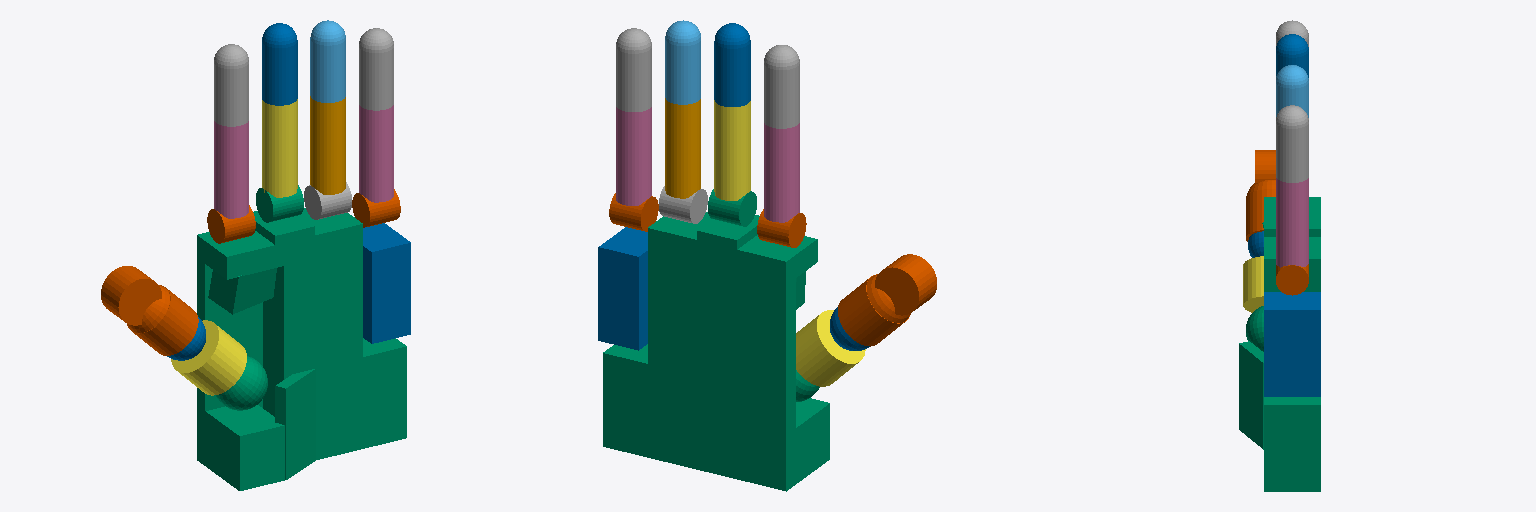
--- What the picture shows (computed from the rendered views, not written in the file) ---
Views: 3 orthographic renders of the robot side by side, from view 1: azimuth 30°, elevation 25°; view 2: azimuth 150°, elevation 25°; view 3: azimuth 270°, elevation 25°.
Model bimanual_shadowhand_motor with 32 links and 31 joints (22 revolute, 9 fixed), rooted at world, posed all joints at 0.
Links seen in each view (by area): view 1: palm, lfmetacarpal, thmiddle, rfproximal, mfproximal, lfproximal, ffproximal, thproximal, mfmiddle, rfmiddle, ffmiddle, lfmiddle (+6 smaller); view 2: palm, lfmetacarpal, thmiddle, mfproximal, lfproximal, rfproximal, ffproximal, thproximal, mfmiddle, rfmiddle, lfmiddle, ffmiddle (+5 smaller); view 3: palm, lfmetacarpal, lfproximal, lfmiddle, thmiddle, rfmiddle, thproximal, mfmiddle, lfknuckle, thbase.
Boxes of the visible links, x1=… form: palm: x1=197, y1=208, x2=406, y2=490; lfmetacarpal: x1=363, y1=223, x2=410, y2=343; thmiddle: x1=101, y1=266, x2=198, y2=355; rfproximal: x1=310, y1=96, x2=345, y2=194; mfproximal: x1=262, y1=99, x2=297, y2=197; lfproximal: x1=359, y1=105, x2=393, y2=202; ffproximal: x1=214, y1=121, x2=248, y2=218; thproximal: x1=171, y1=320, x2=246, y2=395; mfmiddle: x1=262, y1=23, x2=297, y2=105; rfmiddle: x1=310, y1=20, x2=345, y2=102; ffmiddle: x1=214, y1=44, x2=248, y2=126; lfmiddle: x1=359, y1=28, x2=393, y2=110; palm: x1=603, y1=212, x2=829, y2=491; lfmetacarpal: x1=598, y1=227, x2=647, y2=350; thmiddle: x1=838, y1=254, x2=936, y2=346; mfproximal: x1=714, y1=100, x2=750, y2=200; lfproximal: x1=616, y1=107, x2=651, y2=205; rfproximal: x1=665, y1=98, x2=700, y2=198; ffproximal: x1=764, y1=123, x2=799, y2=222; thproximal: x1=796, y1=310, x2=865, y2=386; mfmiddle: x1=714, y1=23, x2=750, y2=106; rfmiddle: x1=665, y1=20, x2=700, y2=104; lfmiddle: x1=616, y1=28, x2=651, y2=111; ffmiddle: x1=764, y1=45, x2=799, y2=128; palm: x1=1239, y1=197, x2=1320, y2=491; lfmetacarpal: x1=1264, y1=292, x2=1320, y2=396; lfproximal: x1=1276, y1=178, x2=1308, y2=267; lfmiddle: x1=1276, y1=105, x2=1308, y2=182; thmiddle: x1=1246, y1=150, x2=1275, y2=241; rfmiddle: x1=1276, y1=65, x2=1308, y2=117; thproximal: x1=1243, y1=256, x2=1263, y2=312; mfmiddle: x1=1276, y1=34, x2=1308, y2=77; lfknuckle: x1=1276, y1=264, x2=1308, y2=295; thbase: x1=1246, y1=306, x2=1263, y2=351.
Size in the robot's own frame: 0.1354 by 0.0343 by 0.187 metres.
Meshes: 3 distinct files referenced, 0 mesh visuals loaded (none loaded); not drawn: 6 (reference not matched to a file when rendering).

URDF robot description (bimanual_shadowhand_motor):
<?xml version="1.0" encoding="utf-8"?>
<!--
 Software License Agreement (BSD License)
 Copyright © 2022 belongs to Shadow Robot Company Ltd.
 All rights reserved.
 Redistribution and use in source and binary forms, with or without modification,
 are permitted provided that the following conditions are met:
   1. Redistributions of source code must retain the above copyright notice,
      this list of conditions and the following disclaimer.
   2. Redistributions in binary form must reproduce the above copyright notice,
      this list of conditions and the following disclaimer in the documentation
      and/or other materials provided with the distribution.
   3. Neither the name of Shadow Robot Company Ltd nor the names of its contributors
      may be used to endorse or promote products derived from this software without
      specific prior written permission.
 This software is provided by Shadow Robot Company Ltd "as is" and any express
 or implied warranties, including, but not limited to, the implied warranties of
 merchantability and fitness for a particular purpose are disclaimed. In no event
 shall the copyright holder be liable for any direct, indirect, incidental, special,
 exemplary, or consequential damages (including, but not limited to, procurement of
 substitute goods or services; loss of use, data, or profits; or business interruption)
 however caused and on any theory of liability, whether in contract, strict liability,
 or tort (including negligence or otherwise) arising in any way out of the use of this
 software, even if advised of the possibility of such damage.
-->
<robot name="bimanual_shadowhand_motor">
  <material name="Grey">
    <color rgba="0.2 0.2 0.2 1.0"/>
  </material>
  <material name="LightGrey">
    <color rgba="0.6 0.6 0.6 1.0"/>
  </material>
  <link name="world"/>
  <joint name="world_joint" type="fixed">
    <parent link="world"/>
    <child link="wrist"/>
    <origin rpy="0.0 0.0 0.0" xyz="0.0 0.0 0.0"/>
    <!-- <origin rpy="0.0 0.0 1.57079" xyz="0.0 0.0 0.0"/> -->
  </joint>
  <link name="wrist">
    <inertial>
      <origin rpy="0 0 0" xyz="0 0 0"/>
      <mass value="0.1"/>
      <inertia ixx="0.000035" ixy="0.0" ixz="0.0" iyy="0.000064" iyz="0.0" izz="0.0000438"/>
    </inertial>
    <visual>
      <origin rpy="0 0 0" xyz="0 0 0"/>
      <geometry name="wrist_visual">
        <mesh filename="meshes/visual/wrist/wrist_E3M5.dae" scale="0.001 0.001 0.001"/>
      </geometry>
      <material name="LightGrey"/>
    </visual>
    <collision>
      <origin rpy="1.5708 1.5708 0" xyz="0 0 0"/>
      <geometry name="wrist_collision_geom">
        <cylinder length="0.030" radius="0.0135"/>
      </geometry>
    </collision>
    <collision>
      <origin rpy="0 1.5708 0" xyz="-0.026 0 0.034"/>
      <geometry>
        <cylinder length="0.010" radius="0.011"/>
      </geometry>
    </collision>
    <collision>
      <origin rpy="0 1.5708 0" xyz="0.031 0 0.034"/>
      <geometry>
        <cylinder length="0.010" radius="0.011"/>
      </geometry>
    </collision>
    <collision>
      <origin rpy="0 0.7854 0" xyz="-0.021 0 0.011"/>
      <geometry>
        <box size="0.027 0.018 0.010"/>
      </geometry>
    </collision>
    <collision>
      <origin rpy="0 -0.7854 0" xyz="0.026 0 0.010"/>
      <geometry>
        <box size="0.027 0.018 0.010"/>
      </geometry>
    </collision>
  </link>
  

  <link name="palm">
    <inertial>
      <origin rpy="0 0 0" xyz="0 0 0.035"/>
      <mass value="0.3"/>
      <inertia ixx="0.0003581" ixy="0.0" ixz="0.0" iyy="0.0005287" iyz="0.0" izz="0.000191"/>
    </inertial>
    <!-- <visual>
      <origin rpy="1.5708 0 0" xyz="0 0 0"/>
      <geometry name="palm_visual">
        <mesh filename="meshes/visual/palm/palm_E3M5.dae" scale="0.001 0.001 0.001"/>
      </geometry>
      <material name="Grey"/>
    </visual> -->
    <visual>
      <origin rpy="0 0 0" xyz="-0.011 0.0085 0.038"/>
      <geometry name="palm_collision_geom">
        <box size="0.062 0.007 0.098"/>
      </geometry>
    </visual>
    <visual>
      <origin rpy="0 0 0" xyz="0.002 -0.0035 0.038"/>
      <geometry>
        <box size="0.036 0.017 0.098"/>
      </geometry>
    </visual>
    <!-- palm complement below first finger -->
    <visual>
      <origin rpy="0 0 0" xyz="-0.029 -0.0035 0.082"/>
      <geometry>
        <box size="0.026 0.017 0.010"/>
      </geometry>
    </visual>
    <visual>
      <origin rpy="0.2 0 0.25" xyz="-0.0265 -0.001 0.070"/>
      <geometry>
        <box size="0.026 0.014 0.018"/>
      </geometry>
    </visual>
    <!-- thumb pulp side -->
    <visual>
      <origin rpy="0 0 0" xyz="-0.0315 -0.0085 0.001"/>
      <geometry>
        <box size="0.021 0.027 0.024"/>
      </geometry>
    </visual>
    <!-- thumb pulp central -->
    <visual>
      <origin rpy="0 0 0.48" xyz="-0.0125 -0.015 0.009"/>
      <geometry>
        <box size="0.022 0.005 0.040"/>
      </geometry>
    </visual>
    <!-- above middle finger-->
    <visual>
      <origin rpy="0 0 0" xyz="-0.011 0 0.089"/>
      <geometry>
        <box size="0.018 0.024 0.004"/>
      </geometry>
    </visual>
    <!-- metacarpal side-->
    <visual>
      <origin rpy="0 0 0" xyz="0.03 0 0.009"/>
      <geometry>
        <box size="0.020 0.024 0.040"/>
      </geometry>
    </visual>
  </link>

  <joint name="ee_fixed_joint" type="fixed">
    <parent link="palm"/>
    <child link="manipulator"/>
    <origin rpy="0.0 0.0 0.0" xyz="0.0 0.0 0.05"/>
  </joint>
  <link name="manipulator"/>
  <joint name="WRJ1" type="fixed">
    <parent link="wrist"/>
    <child link="palm"/>
    <origin rpy="0 0 0" xyz="0 0 0.034"/>
    <!-- <axis xyz="1 0 0"/> -->
    <!-- <limit effort="30" lower="-0.698000" upper="0.489000" velocity="2.0"/> -->
    <!-- <dynamics damping="0.1"/> -->
  </joint>
  <link name="imu"/>
  <joint name="palm_to_imu" type="fixed">
    <parent link="palm"/>
    <child link="imu"/>
    <origin rpy="-1.5707963 3.141592 0.0" xyz="-0.01785 0.00765 0.049125"/>
  </joint>
  <link name="ffknuckle">
    <inertial>
      <origin rpy="0 0 0" xyz="0 0 0"/>
      <mass value="0.008"/>
      <inertia ixx="0.00000026" ixy="0.0" ixz="0.0" iyy="0.00000026" iyz="0.0" izz="0.00000032"/>
    </inertial>
    <!-- <visual>
      <origin rpy="0 0 0" xyz="0 0 0.0005"/>
      <geometry name="ffknuckle_visual">
        <mesh filename="meshes/visual/f_knuckle/f_knuckle_E3M5.dae" scale="0.001 0.001 0.001"/>
      </geometry>
      <material name="LightGrey"/>
    </visual> -->
    <visual>
      <origin rpy="0 1.5708 0" xyz="0 0 0"/>
      <geometry name="ffknuckle_collision_geom">
        <cylinder length="0.014" radius="0.007"/>
      </geometry>
    </visual>
  </link>
  <joint name="FFJ4" type="revolute">
    <parent link="palm"/>
    <child link="ffknuckle"/>
    <!--<origin xyz="0.033 0 0.095" rpy="0 0 0" />-->
    <origin rpy="0 0 0" xyz="-0.033 0 0.095"/>
    <axis xyz="0 -1 0"/>
    <limit effort="2" lower="-0.349000" upper="0.349000" velocity="2.0"/>
    <dynamics damping="0.1"/>
  </joint>
  <link name="ffproximal">
    <inertial>
      <mass value="0.030"/>
      <origin xyz="0 0 0.0225"/>
      <inertia ixx="0.0000098" ixy="0.0" ixz="0.0" iyy="0.00001" iyz="0.0" izz="0.0000018"/>
    </inertial>
    <!-- <visual>
      <origin rpy="0 0 0" xyz="0 0 0"/>
      <geometry name="ffproximal_visual">
        <mesh filename="meshes/visual/f_proximal/f_proximal_E3M5.dae" scale="0.001 0.001 0.001"/>
      </geometry>
      <material name="Grey"/>
    </visual> -->
    <visual>
      <origin rpy="0 0 0" xyz="0 0 0.025"/>
      <geometry name="ffproximal_collision_geom">
        <cylinder length="0.040" radius="0.007"/>
      </geometry>
    </visual>
  </link>
  <joint name="FFJ3" type="revolute">
    <parent link="ffknuckle"/>
    <child link="ffproximal"/>
    <origin rpy="0 0 0" xyz="0 0 0"/>
    <axis xyz="1 0 0"/>
    <limit effort="2" lower="0.0" upper="1.571" velocity="2.0"/>
    <dynamics damping="0.1"/>
  </joint>
  
  <link name="ffmiddle">
    <inertial>
      <origin rpy="0 0 0" xyz="0 0 0.0125"/>
      <mass value="0.017"/>
      <inertia ixx="0.0000026" ixy="0.0" ixz="0.0" iyy="0.0000027" iyz="0.0" izz="0.00000087"/>
    </inertial>
    <!-- <visual>
      <origin rpy="0 0 0" xyz="0 0 0"/>
      <geometry name="ffmiddle_visual">
        <mesh filename="meshes/visual/f_middle/f_middle_E3M5.dae" scale="0.001 0.001 0.001"/>
      </geometry>
      <material name="Grey"/>
    </visual> -->
    <visual>
      <origin rpy="0 0 0" xyz="0 0 0.0125"/>
      <geometry name="ffmiddle_collision_geom">
        <cylinder length="0.025" radius="0.007"/>
      </geometry>
    </visual>
    <visual>
      <origin rpy="0 0 0" xyz="0 0 0.0"/>
      <geometry>
        <sphere radius="0.007"/>
      </geometry>
    </visual>
    <visual>
      <origin rpy="0 0 0" xyz="0 0 0.025"/>
      <geometry>
        <sphere radius="0.007"/>
      </geometry>
    </visual>
  </link>
  <joint name="FFJ2" type="revolute">
    <parent link="ffproximal"/>
    <child link="ffmiddle"/>
    <origin rpy="0 0 0" xyz="0 0 0.045"/>
    <axis xyz="1 0 0"/>
    <limit effort="2" lower="0" upper="1.571" velocity="2.0"/>
    <dynamics damping="0.1"/>
  </joint>
  <link name="ffdistal">
    <inertial>
      <mass value="0.012"/>
      <origin xyz="0 0 0.012"/>
      <inertia ixx="0.00000094" ixy="0.0" ixz="0.0" iyy="0.0000011" iyz="0.0" izz="0.00000053"/>
    </inertial>
    <!-- <visual>
      <origin rpy="1.5708 0 0" xyz="0 0 0"/>
      <geometry name="ffdistal_visual">
        <mesh filename="meshes/visual/f_distal/pst/f_distal_pst.dae" scale="0.001 0.001 0.001"/>
      </geometry>
    </visual> -->
    <visual>
      <origin rpy="0 0 0" xyz="0 0 0"/>
      <geometry name="ffdistal_collision_geom">
        <mesh filename="meshes/visual/f_distal/pst/f_distal_pst.dae" scale="0.001 0.001 0.001"/>
      </geometry>
    </visual>
  </link>
  <joint name="FFJ1" type="revolute">
    <parent link="ffmiddle"/>
    <child link="ffdistal"/>
    <origin rpy="0 0 0" xyz="0 0 0.025"/>
    <axis xyz="1 0 0"/>
    <!-- standard distal joint -->
    <limit effort="2" lower="0" upper="1.571" velocity="2.0"/>
    <dynamics damping="0.1"/>
  </joint>
  <link name="fftip">
    <inertial>
      <mass value="0.001"/>
      <inertia ixx="0.0" ixy="0.0" ixz="0.0" iyy="0.0" iyz="0.0" izz="0.0"/>
    </inertial>
  </link>
  <joint name="FFtip" type="fixed">
    <parent link="ffdistal"/>
    <child link="fftip"/>
    <origin rpy="0 0 0" xyz="0 0 0.026"/>
  </joint>
  <link name="mfknuckle">
    <inertial>
      <origin rpy="0 0 0" xyz="0 0 0"/>
      <mass value="0.008"/>
      <inertia ixx="0.00000026" ixy="0.0" ixz="0.0" iyy="0.00000026" iyz="0.0" izz="0.00000032"/>
    </inertial>
    <!-- <visual>
      <origin rpy="1.5708 0 0" xyz="0 0 0.0005"/>
      <geometry name="mfknuckle_visual">
        <mesh filename="meshes/visual/f_knuckle/f_knuckle_E3M5.dae" scale="0.001 0.001 0.001"/>
      </geometry>
      <material name="LightGrey"/>
    </visual> -->
    <visual>
      <origin rpy="0 1.5708 0" xyz="0 0 0"/>
      <geometry name="mfknuckle_collision_geom">
        <cylinder length="0.014" radius="0.007"/>
      </geometry>
    </visual>
  </link>
  <joint name="MFJ4" type="revolute">
    <parent link="palm"/>
    <child link="mfknuckle"/>
    <!--<origin xyz="0.033 0 0.095" rpy="0 0 0" />-->
    <origin rpy="0 0 0" xyz="-0.011 0 0.099"/>
    <axis xyz="0 -1 0"/>
    <limit effort="2" lower="-0.349" upper="0.349" velocity="2.0"/>
    <dynamics damping="0.1"/>
  </joint>
  <link name="mfproximal">
    <inertial>
      <mass value="0.030"/>
      <origin xyz="0 0 0.0225"/>
      <inertia ixx="0.0000098" ixy="0.0" ixz="0.0" iyy="0.00001" iyz="0.0" izz="0.0000018"/>
    </inertial>
    <!-- <visual>
      <origin rpy="0 0 0" xyz="0 0 0"/>
      <geometry name="mfproximal_visual">
        <mesh filename="meshes/visual/f_proximal/f_proximal_E3M5.dae" scale="0.001 0.001 0.001"/>
      </geometry>
      <material name="Grey"/>
    </visual> -->
    <visual>
      <origin rpy="0 0 0" xyz="0 0 0.025"/>
      <geometry name="mfproximal_collision_geom">
        <cylinder length="0.040" radius="0.007"/>
      </geometry>
    </visual>
  </link>
  <joint name="MFJ3" type="revolute">
    <parent link="mfknuckle"/>
    <child link="mfproximal"/>
    <origin rpy="0 0 0" xyz="0 0 0"/>
    <axis xyz="1 0 0"/>
    <limit effort="2" lower="0.0" upper="1.571" velocity="2.0"/>
    <dynamics damping="0.1"/>
  </joint>
  <link name="mfmiddle">
    <inertial>
      <origin rpy="0 0 0" xyz="0 0 0.0125"/>
      <mass value="0.017"/>
      <inertia ixx="0.0000026" ixy="0.0" ixz="0.0" iyy="0.0000027" iyz="0.0" izz="0.00000087"/>
    </inertial>
    <!-- <visual>
      <origin rpy="0 0 0" xyz="0 0 0"/>
      <geometry name="mfmiddle_visual">
        <mesh filename="meshes/visual/f_middle/f_middle_E3M5.dae" scale="0.001 0.001 0.001"/>
      </geometry>
      <material name="Grey"/>
    </visual> -->
    <visual>
      <origin rpy="0 0 0" xyz="0 0 0.0125"/>
      <geometry name="mfmiddle_collision_geom">
        <cylinder length="0.025" radius="0.007"/>
      </geometry>
    </visual>
    <visual>
      <origin rpy="0 0 0" xyz="0 0 0.0"/>
      <geometry>
        <sphere radius="0.007"/>
      </geometry>
    </visual>
    <visual>
      <origin rpy="0 0 0" xyz="0 0 0.025"/>
      <geometry>
        <sphere radius="0.007"/>
      </geometry>
    </visual>
  </link>
  <joint name="MFJ2" type="revolute">
    <parent link="mfproximal"/>
    <child link="mfmiddle"/>
    <origin rpy="0 0 0" xyz="0 0 0.045"/>
    <axis xyz="1 0 0"/>
    <limit effort="2" lower="0" upper="1.571" velocity="2.0"/>
    <dynamics damping="0.1"/>
  </joint>
  <link name="mfdistal">
    <inertial>
      <mass value="0.012"/>
      <origin xyz="0 0 0.012"/>
      <inertia ixx="0.00000094" ixy="0.0" ixz="0.0" iyy="0.0000011" iyz="0.0" izz="0.00000053"/>
    </inertial>
    <!-- <visual>
      <origin rpy="1.5708 0 0" xyz="0 0 0"/>
      <geometry name="mfdistal_visual">
        <mesh filename="meshes/visual/f_distal/pst/f_distal_pst.dae" scale="0.001 0.001 0.001"/>
      </geometry>
    </visual> -->
    <visual>
      <origin rpy="0 0 0" xyz="0 0 0"/>
      <geometry name="mfdistal_collision_geom">
        <mesh filename="meshes/visual/f_distal/pst/f_distal_pst.dae" scale="0.001 0.001 0.001"/>
      </geometry>
    </visual>
  </link>
  <joint name="MFJ1" type="revolute">
    <parent link="mfmiddle"/>
    <child link="mfdistal"/>
    <origin rpy="0 0 0" xyz="0 0 0.025"/>
    <axis xyz="1 0 0"/>
    <!-- standard distal joint -->
    <limit effort="2" lower="0" upper="1.571" velocity="2.0"/>
    <dynamics damping="0.1"/>
  </joint>
  <gazebo reference="MFJ1">
    <provideFeedback>1</provideFeedback>
    <implicitSpringDamper>1</implicitSpringDamper>
  </gazebo>
  <link name="mftip">
    <inertial>
      <mass value="0.001"/>
      <inertia ixx="0.0" ixy="0.0" ixz="0.0" iyy="0.0" iyz="0.0" izz="0.0"/>
    </inertial>
  </link>
  <joint name="MFtip" type="fixed">
    <parent link="mfdistal"/>
    <child link="mftip"/>
    <origin rpy="0 0 0" xyz="0 0 0.026"/>
  </joint>
  <link name="rfknuckle">
    <inertial>
      <origin rpy="0 0 0" xyz="0 0 0"/>
      <mass value="0.008"/>
      <inertia ixx="0.00000026" ixy="0.0" ixz="0.0" iyy="0.00000026" iyz="0.0" izz="0.00000032"/>
    </inertial>
    <!-- <visual>
      <origin rpy="1.5708 0 0" xyz="0 0 0.0005"/>
      <geometry name="rfknuckle_visual">
        <mesh filename="meshes/visual/f_knuckle/f_knuckle_E3M5.dae" scale="0.001 0.001 0.001"/>
      </geometry>
      <material name="LightGrey"/>
    </visual> -->
    <visual>
      <origin rpy="0 1.5708 0" xyz="0 0 0"/>
      <geometry name="rfknuckle_collision_geom">
        <cylinder length="0.014" radius="0.007"/>
      </geometry>
    </visual>
  </link>
  <joint name="RFJ4" type="revolute">
    <parent link="palm"/>
    <child link="rfknuckle"/>
    <!--<origin xyz="0.033 0 0.095" rpy="0 0 0" />-->
    <origin rpy="0 0 0" xyz="0.011 0 0.095"/>
    <axis xyz="0 1 0"/>
    <limit effort="2" lower="-0.349065850399" upper="0.349065850399" velocity="2.0"/>
    <dynamics damping="0.1"/>
  </joint>
  <link name="rfproximal">
    <inertial>
      <mass value="0.030"/>
      <origin xyz="0 0 0.0225"/>
      <inertia ixx="0.0000098" ixy="0.0" ixz="0.0" iyy="0.00001" iyz="0.0" izz="0.0000018"/>
    </inertial>
    <!-- <visual>
      <origin rpy="0 0 0" xyz="0 0 0"/>
      <geometry name="rfproximal_visual">
        <mesh filename="meshes/visual/f_proximal/f_proximal_E3M5.dae" scale="0.001 0.001 0.001"/>
      </geometry>
      <material name="Grey"/>
    </visual> -->
    <visual>
      <origin rpy="0 0 0" xyz="0 0 0.025"/>
      <geometry name="rfproximal_collision_geom">
        <cylinder length="0.040" radius="0.007"/>
      </geometry>
    </visual>
  </link>
  <joint name="RFJ3" type="revolute">
    <parent link="rfknuckle"/>
    <child link="rfproximal"/>
    <origin rpy="0 0 0" xyz="0 0 0"/>
    <axis xyz="1 0 0"/>
    <limit effort="2" lower="0.0" upper="1.571" velocity="2.0"/>
    <dynamics damping="0.1"/>
  </joint>
  <link name="rfmiddle">
    <inertial>
      <origin rpy="0 0 0" xyz="0 0 0.0125"/>
      <mass value="0.017"/>
      <inertia ixx="0.0000026" ixy="0.0" ixz="0.0" iyy="0.0000027" iyz="0.0" izz="0.00000087"/>
    </inertial>
    <!-- <visual>
      <origin rpy="0 0 0" xyz="0 0 0"/>
      <geometry name="rfmiddle_visual">
        <mesh filename="meshes/visual/f_middle/f_middle_E3M5.dae" scale="0.001 0.001 0.001"/>
      </geometry>
      <material name="Grey"/>
    </visual> -->
    <visual>
      <origin rpy="0 0 0" xyz="0 0 0.0125"/>
      <geometry name="rfmiddle_collision_geom">
        <cylinder length="0.025" radius="0.007"/>
      </geometry>
    </visual>
    <visual>
      <origin rpy="0 0 0" xyz="0 0 0.0"/>
      <geometry>
        <sphere radius="0.007"/>
      </geometry>
    </visual>
    <visual>
      <origin rpy="0 0 0" xyz="0 0 0.025"/>
      <geometry>
        <sphere radius="0.007"/>
      </geometry>
    </visual>
  </link>
  <joint name="RFJ2" type="revolute">
    <parent link="rfproximal"/>
    <child link="rfmiddle"/>
    <origin rpy="0 0 0" xyz="0 0 0.045"/>
    <axis xyz="1 0 0"/>
    <limit effort="2" lower="0" upper="1.571" velocity="2.0"/>
    <dynamics damping="0.1"/>
  </joint>
  <link name="rfdistal">
    <inertial>
      <mass value="0.012"/>
      <origin xyz="0 0 0.012"/>
      <inertia ixx="0.00000094" ixy="0.0" ixz="0.0" iyy="0.0000011" iyz="0.0" izz="0.00000053"/>
    </inertial>
    <!-- <visual>
      <origin rpy="1.5708 0 0" xyz="0 0 0"/>
      <geometry name="rfdistal_visual">
        <mesh filename="meshes/visual/f_distal/pst/f_distal_pst.dae" scale="0.001 0.001 0.001"/>
      </geometry>
    </visual> -->
    <visual>
      <origin rpy="0 0 0" xyz="0 0 0"/>
      <geometry name="rfdistal_collision_geom">
        <mesh filename="meshes/visual/f_distal/pst/f_distal_pst.dae" scale="0.001 0.001 0.001"/>
      </geometry>
    </visual>
  </link>
  <joint name="RFJ1" type="revolute">
    <parent link="rfmiddle"/>
    <child link="rfdistal"/>
    <origin rpy="0 0 0" xyz="0 0 0.025"/>
    <axis xyz="1 0 0"/>
    <!-- standard distal joint -->
    <limit effort="2" lower="0" upper="1.571" velocity="2.0"/>
    <dynamics damping="0.1"/>
  </joint>
  <link name="rftip">
    <inertial>
      <mass value="0.001"/>
      <inertia ixx="0.0" ixy="0.0" ixz="0.0" iyy="0.0" iyz="0.0" izz="0.0"/>
    </inertial>
  </link>
  <joint name="RFtip" type="fixed">
    <parent link="rfdistal"/>
    <child link="rftip"/>
    <origin rpy="0 0 0" xyz="0 0 0.026"/>
  </joint>
  <link name="lfmetacarpal">
    <inertial>
      <origin rpy="0 0.9599 0" xyz="0.0317486764706 0 0.0223529411765"/>
      <mass value="0.030"/>
      <inertia ixx="0.0000145" ixy="0.0" ixz="0.0" iyy="0.00001638" iyz="0.0" izz="0.000004272"/>
    </inertial>
    <!-- <visual>
      <origin rpy="0 0.9599 0" xyz="0 0 0"/>
      <geometry name="lfmetacarpal_visual">
        <mesh filename="meshes/visual/lf_metacarpal/lf_metacarpal_E3M5.dae" scale="0.001 0.001 0.001"/>
      </geometry>
      <material name="Grey"/>
    </visual> -->
    <visual>
      <origin rpy="0 0.9599 0" xyz="0.026986375 0 0.019"/>
      <geometry name="lfmetacarpal_collision_geom">
        <box size="0.018 0.024 0.040"/>
      </geometry>
    </visual>
  </link>
  <joint name="LFJ5" type="revolute">
    <parent link="palm"/>
    <child link="lfmetacarpal"/>
    <origin rpy="0 -0.9599 0" xyz="0.033 0 0.02071"/>
    <axis xyz="0 1 0"/>
    <limit effort="2" lower="0" upper="0.785" velocity="2.0"/>
    <dynamics damping="0.1"/>
  </joint>
  <link name="lfknuckle">
    <inertial>
      <origin rpy="0 0 0" xyz="0 0 0"/>
      <mass value="0.008"/>
      <inertia ixx="0.00000026" ixy="0.0" ixz="0.0" iyy="0.00000026" iyz="0.0" izz="0.00000032"/>
    </inertial>
    <!-- <visual>
      <origin rpy="0 0 0" xyz="0 0 0.0005"/>
      <geometry name="lfknuckle_visual">
        <mesh filename="meshes/visual/f_knuckle/f_knuckle_E3M5.dae" scale="0.001 0.001 0.001"/>
      </geometry>
      <material name="LightGrey"/>
    </visual> -->
    <visual>
      <origin rpy="0 1.5708 0" xyz="0 0 0"/>
      <geometry name="lfknuckle_collision_geom">
        <cylinder length="0.014" radius="0.007"/>
      </geometry>
    </visual>
  </link>
  <joint name="LFJ4" type="revolute">
    <parent link="lfmetacarpal"/>
    <child link="lfknuckle"/>
    <!--<origin xyz="0.033 0 0.095" rpy="0 0 0" />-->
    <origin rpy="0 0.9599 0" xyz="0.05397275 0 0.03779463"/>
    <axis xyz="0 1 0"/>
    <limit effort="2" lower="-0.349" upper="0.349" velocity="2.0"/>
    <dynamics damping="0.1"/>
  </joint>
  <link name="lfproximal">
    <inertial>
      <mass value="0.030"/>
      <origin xyz="0 0 0.0225"/>
      <inertia ixx="0.0000098" ixy="0.0" ixz="0.0" iyy="0.00001" iyz="0.0" izz="0.0000018"/>
    </inertial>
    <!-- <visual>
      <origin rpy="0 0 0" xyz="0 0 0"/>
      <geometry name="lfproximal_visual">
        <mesh filename="meshes/visual/f_proximal/f_proximal_E3M5.dae" scale="0.001 0.001 0.001"/>
      </geometry>
      <material name="Grey"/>
    </visual> -->
    <visual>
      <origin rpy="0 0 0" xyz="0 0 0.025"/>
      <geometry name="lfproximal_collision_geom">
        <cylinder length="0.040" radius="0.007"/>
      </geometry>
    </visual>
  </link>
  <joint name="LFJ3" type="revolute">
    <parent link="lfknuckle"/>
    <child link="lfproximal"/>
    <origin rpy="0 0 0" xyz="0 0 0"/>
    <axis xyz="1 0 0"/>
    <limit effort="2" lower="0.0" upper="1.571" velocity="2.0"/>
    <dynamics damping="0.1"/>
  </joint>
  <link name="lfmiddle">
    <inertial>
      <origin rpy="0 0 0" xyz="0 0 0.0125"/>
      <mass value="0.017"/>
      <inertia ixx="0.0000026" ixy="0.0" ixz="0.0" iyy="0.0000027" iyz="0.0" izz="0.00000087"/>
    </inertial>
    <!-- <visual>
      <origin rpy="0 0 0" xyz="0 0 0"/>
      <geometry name="lfmiddle_visual">
        <mesh filename="meshes/visual/f_middle/f_middle_E3M5.dae" scale="0.001 0.001 0.001"/>
      </geometry>
      <material name="Grey"/>
    </visual> -->
    <visual>
      <origin rpy="0 0 0" xyz="0 0 0.0125"/>
      <geometry name="lfmiddle_collision_geom">
        <cylinder length="0.025" radius="0.007"/>
      </geometry>
    </visual>
    <visual>
      <origin rpy="0 0 0" xyz="0 0 0.0"/>
      <geometry>
        <sphere radius="0.007"/>
      </geometry>
    </visual>
    <visual>
      <origin rpy="0 0 0" xyz="0 0 0.025"/>
      <geometry>
        <sphere radius="0.007"/>
      </geometry>
    </visual>
  </link>
  <joint name="LFJ2" type="revolute">
    <parent link="lfproximal"/>
    <child link="lfmiddle"/>
    <origin rpy="0 0 0" xyz="0 0 0.045"/>
    <axis xyz="1 0 0"/>
    <limit effort="2" lower="0" upper="1.571" velocity="2.0"/>
    <dynamics damping="0.1"/>
  </joint>
  <link name="lfdistal">
    <inertial>
      <mass value="0.012"/>
      <origin xyz="0 0 0.012"/>
      <inertia ixx="0.00000094" ixy="0.0" ixz="0.0" iyy="0.0000011" iyz="0.0" izz="0.00000053"/>
    </inertial>
    <!-- <visual>
      <origin rpy="1.5708 0 0" xyz="0 0 0"/>
      <geometry name="lfdistal_visual">
        <mesh filename="meshes/visual/f_distal/pst/f_distal_pst.dae" scale="0.001 0.001 0.001"/>
      </geometry>
    </visual> -->
    <visual>
      <origin rpy="0 0 0" xyz="0 0 0"/>
      <geometry name="lfdistal_collision_geom">
        <mesh filename="meshes/visual/f_distal/pst/f_distal_pst.dae" scale="0.001 0.001 0.001"/>
      </geometry>
    </visual>
  </link>
  <joint name="LFJ1" type="revolute">
    <parent link="lfmiddle"/>
    <child link="lfdistal"/>
    <origin rpy="0 0 0" xyz="0 0 0.025"/>
    <axis xyz="1 0 0"/>
    <!-- standard distal joint -->
    <limit effort="2" lower="0" upper="1.571" velocity="2.0"/>
    <dynamics damping="0.1"/>
  </joint>
  <link name="lftip">
    <inertial>
      <mass value="0.001"/>
      <inertia ixx="0.0" ixy="0.0" ixz="0.0" iyy="0.0" iyz="0.0" izz="0.0"/>
    </inertial>
  </link>
  <joint name="LFtip" type="fixed">
    <parent link="lfdistal"/>
    <child link="lftip"/>
    <origin rpy="0 0 0" xyz="0 0 0.026"/>
  </joint>
  <link name="thbase">
    <inertial>
      <mass value="0.010"/>
      <origin rpy="0 0 0" xyz="0 0 0"/>
      <inertia ixx="0.00000016" ixy="0.0" ixz="0.0" iyy="0.00000016" iyz="0.0" izz="0.00000016"/>
    </inertial>
    <!-- <visual>
      <origin rpy="0 0 0" xyz="0 0 0"/>
      <geometry name="thbase_visual">
        <box size="0.001 0.001 0.001"/>
      </geometry>
      <material name="shadow_thbase_material">
        <color rgba="0.5 0.5 0.5 1.0"/>
      </material>
    </visual> -->
    <visual>
      <origin rpy="0 0 0" xyz="0 0 0"/>
      <geometry name="thbase_collision_geom">
        <sphere radius="0.011"/>
      </geometry>
    </visual>
  </link>
  <joint name="THJ5" type="revolute">
    <parent link="palm"/>
    <child link="thbase"/>
    <origin rpy="-0.785398163397 0 1.57079632679" xyz="-0.034 -0.00858 0.029"/>
    <axis xyz="0 0 -1"/>
    <limit effort="5.0" lower="-1.047" upper="1.047" velocity="4.0"/>
    <dynamics damping="0.2"/>
  </joint>
  <link name="thproximal">
    <inertial>
      <mass value="0.040"/>
      <origin rpy="0 0 0" xyz="0 0 0.019"/>
      <inertia ixx="0.0000136" ixy="0.0" ixz="0.0" iyy="0.0000136" iyz="0.0" izz="0.00000313"/>
    </inertial>
    <!-- <visual>
      <origin rpy="0 0 1.57079632679" xyz="0 0 0"/>
      <geometry name="thproximal_visual">
        <mesh filename="meshes/visual/th_proximal/th_proximal_E3M5.dae" scale="0.001 0.001 0.001"/>
      </geometry>
      <material name="shadow_thproximal_material">
        <color rgba="0.2 0.2 0.2 1.0"/>
      </material>
    </visual> -->
    <visual>
      <origin rpy="0 0 0" xyz="0 0 0.020"/>
      <geometry name="thproximal_collision_geom">
        <cylinder length="0.018" radius="0.012"/>
      </geometry>
    </visual>
  </link>
  <joint name="THJ4" type="revolute">
    <parent link="thbase"/>
    <child link="thproximal"/>
    <origin rpy="0 0 0" xyz="0 0 0"/>
    <axis xyz="0 1 0"/>
    <limit effort="3" lower="0.0" upper="1.222" velocity="4.0"/>
    <dynamics damping="0.2"/>
  </joint>
  <link name="thhub">
    <inertial>
      <mass value="0.005"/>
      <origin rpy="0 0 0" xyz="0 0 0"/>
      <inertia ixx="0.000001" ixy="0.0" ixz="0.0" iyy="0.000001" iyz="0.0" izz="0.0000003"/>
    </inertial>
    <!-- <visual>
      <origin rpy="0 0 0" xyz="0 0 0"/>
      <geometry name="thhub_visual">
        <box size="0.001 0.001 0.001"/>
      </geometry>
      <material name="shadow_thhub_material">
        <color rgba="0.7 0.7 0.7 1.0"/>
      </material>
    </visual> -->
    <visual>
      <origin rpy="0 0 0" xyz="0 0 0"/>
      <geometry name="thhub_collision_geom">
        <sphere radius="0.010"/>
      </geometry>
    </visual>
  </link>
  <joint name="THJ3" type="revolute">
    <parent link="thproximal"/>
    <child link="thhub"/>
    <origin rpy="0 0 0" xyz="0 0 0.038"/>
    <axis xyz="0 1 0"/>
    <limit effort="2.0" lower="-0.209" upper="0.209" velocity="4.0"/>
    <dynamics damping="0.2"/>
  </joint>
  <link name="thmiddle">
    <inertial>
      <mass value="0.020"/>
      <origin rpy="0 0 0" xyz="0 0 0.016"/>
      <inertia ixx="0.0000051" ixy="0.0" ixz="0.0" iyy="0.0000051" iyz="0.0" izz="0.00000121"/>
    </inertial>
    <!-- <visual>
      <origin rpy="0 0 1.57079632679" xyz="0 0 0"/>
      <geometry name="thmiddle_visual">
        <mesh filename="meshes/visual/th_middle/th_middle_E3M5.dae" scale="0.001 0.001 0.001"/>
      </geometry>
      <material name="shadow_thmiddle_material">
        <color rgba="0.2 0.2 0.2 1.0"/>
      </material>
    </visual> -->
    <visual>
      <origin rpy="0 0 0" xyz="0 0 0.012"/>
      <geometry name="thmiddle_collision_geom">
        <cylinder length="0.018" radius="0.011"/>
      </geometry>
    </visual>
    <visual>
      <origin rpy="0 0 0" xyz="0 0 0.019"/>
      <geometry>
        <sphere radius="0.011"/>
      </geometry>
    </visual>
    <visual>
      <origin rpy="0 1.5708 0" xyz="0 0 0.032"/>
      <geometry>
        <cylinder length="0.014" radius="0.010"/>
      </geometry>
    </visual>
  </link>
  <joint name="THJ2" type="revolute">
    <parent link="thhub"/>
    <child link="thmiddle"/>
    <origin rpy="0 0 0" xyz="0 0 0"/>
    <axis xyz="1 0 0"/>
    <limit effort="2.0" lower="-0.524" upper="0.524" velocity="2.0"/>
    <dynamics damping="0.1"/>
  </joint>
  <!-- common -->
  <link name="thdistal">
    <inertial>
      <mass value="0.016"/>
      <origin rpy="0 0 0" xyz="0 0 0.01375"/>
      <inertia ixx="0.0000021" ixy="0.0" ixz="0.0" iyy="0.0000022" iyz="0.0" izz="0.000001"/>
    </inertial>
    <!-- <visual>
      <origin rpy="1.5708 0 0" xyz="0 0 0"/>
      <geometry name="thdistal_visual">
        <mesh filename="meshes/visual/th_distal/pst/th_distal_pst.dae" scale="0.001 0.001 0.001"/>
      </geometry>
      <material name="shadow_thmiddle_material">
        <color rgba="0.2 0.2 0.2 1.0"/>
      </material>
    </visual> -->
    <visual>
      <origin rpy="0 0 0" xyz="0 0 0"/>
      <geometry name="thmiddle_collision_geom">
        <mesh filename="meshes/visual/th_distal/pst/th_distal_pst.dae" scale="0.001 0.001 0.001"/>
      </geometry>
    </visual>
  </link>
  <joint name="THJ1" type="revolute">
    <parent link="thmiddle"/>
    <child link="thdistal"/>
    <origin rpy="0 0 0" xyz="0 0 0.032"/>
    <axis xyz="1 0 0"/>
    <limit effort="1.0" lower="0.0" upper="1.57079632679" velocity="4.0"/>
    <dynamics damping="0.2"/>
  </joint>
  <link name="thtip">
    <inertial>
      <mass value="0.001"/>
      <inertia ixx="0.0" ixy="0.0" ixz="0.0" iyy="0.0" iyz="0.0" izz="0.0"/>
    </inertial>
  </link>
  <joint name="thtip" type="fixed">
    <parent link="thdistal"/>
    <child link="thtip"/>
    <origin rpy="0 0 0" xyz="0 0 0.0275"/>
  </joint>
</robot>
